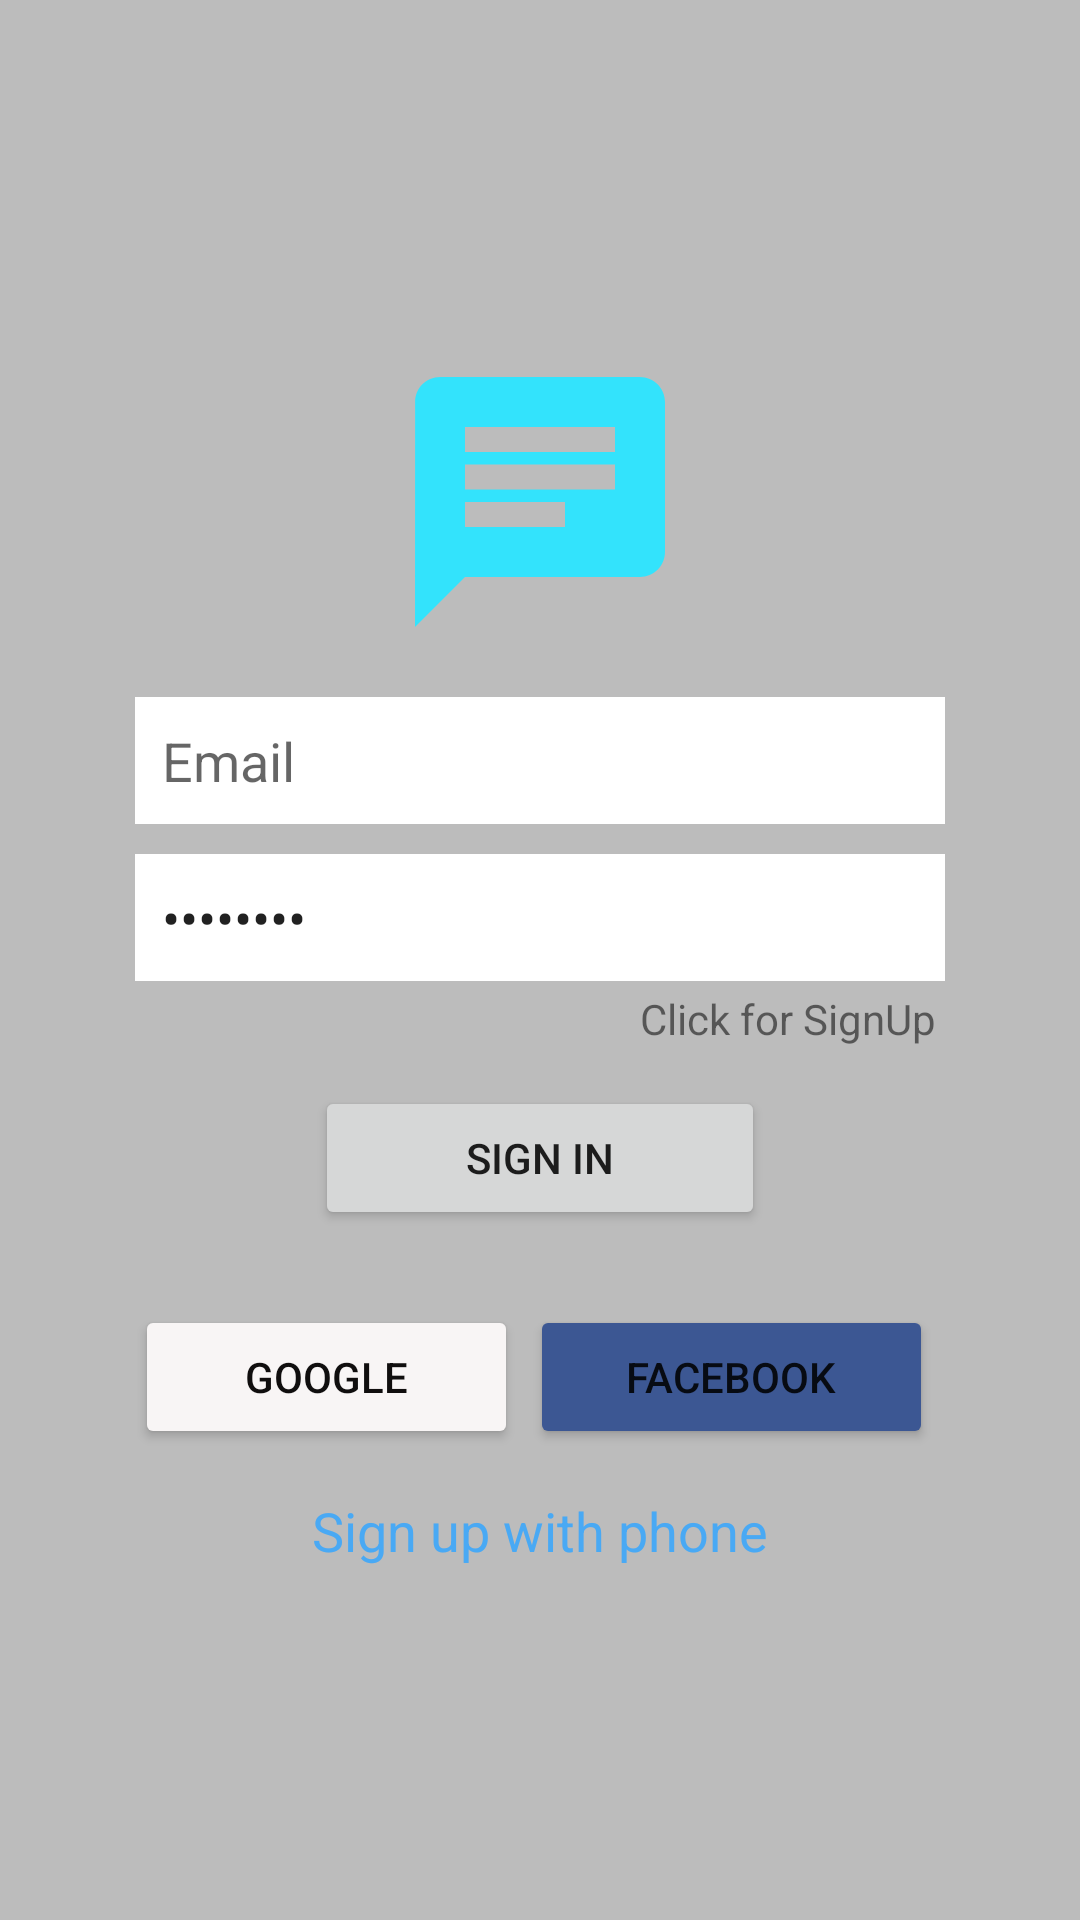

Point at icon controls on the screen. Image size 1080*1920, points as point (x, y).
chat: point (540, 502)
